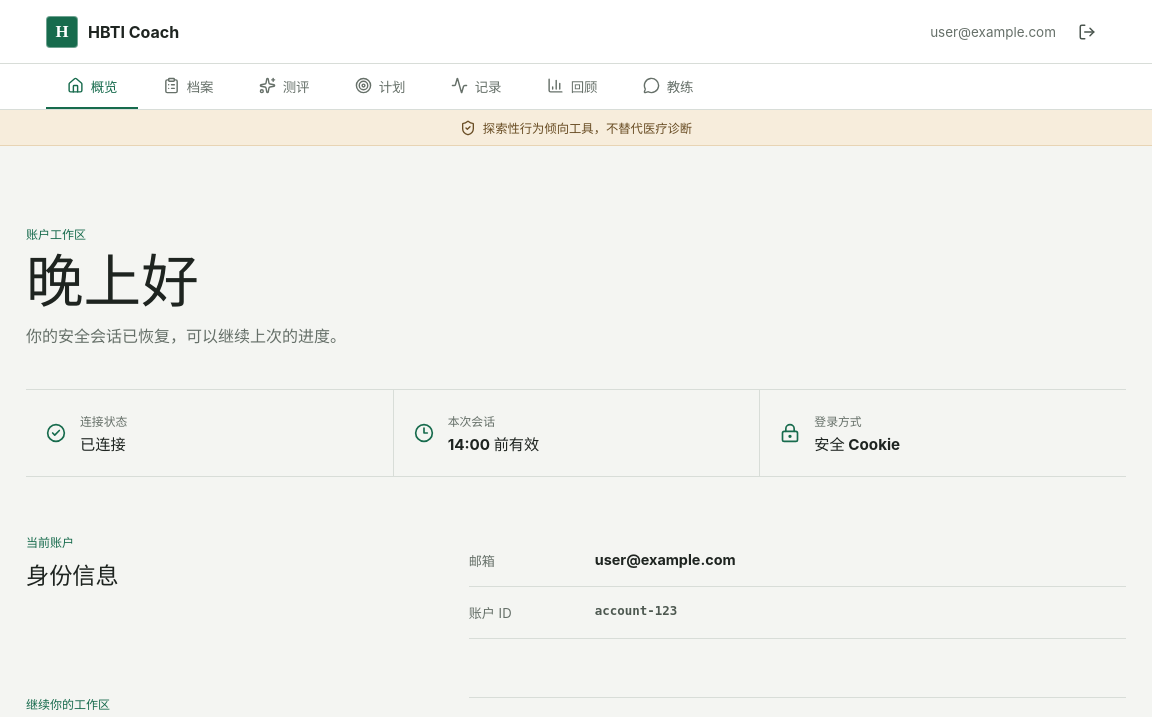
Test: account experience › clears the local session after an idempotent logout
Click the button named "退出登录" at coordinates (1087, 32), box [1068,12,1106,50]
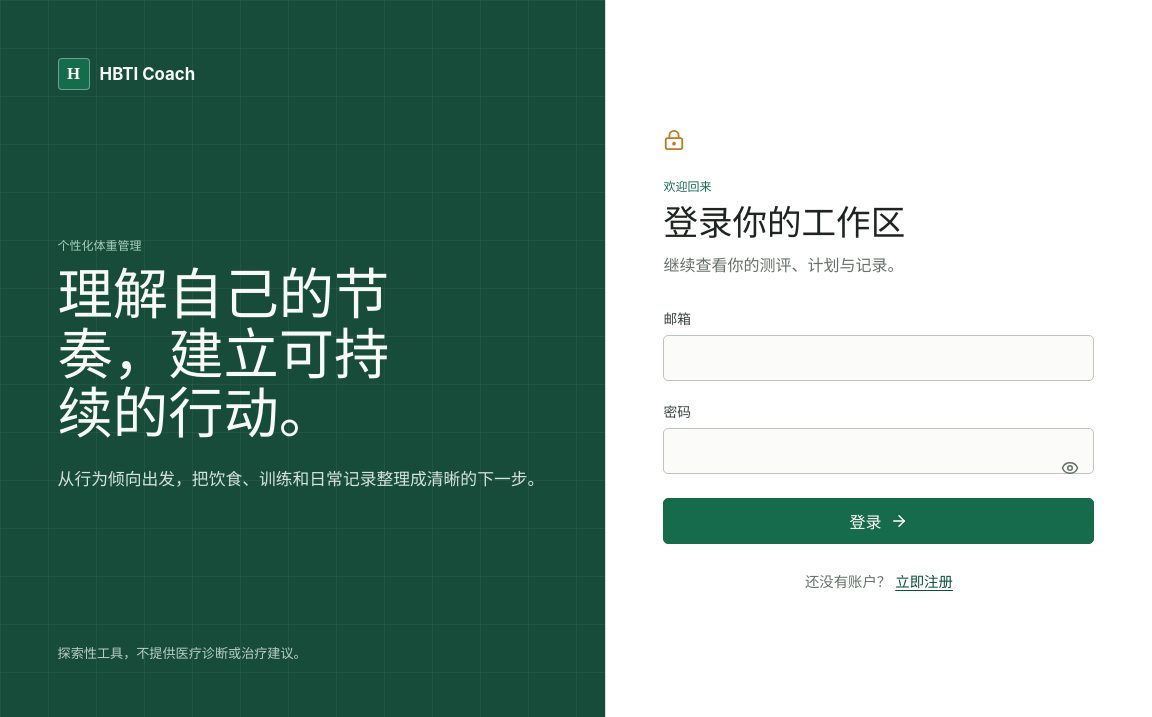
Now the heading "登录你的工作区" is shown, box [663,202,905,243]
